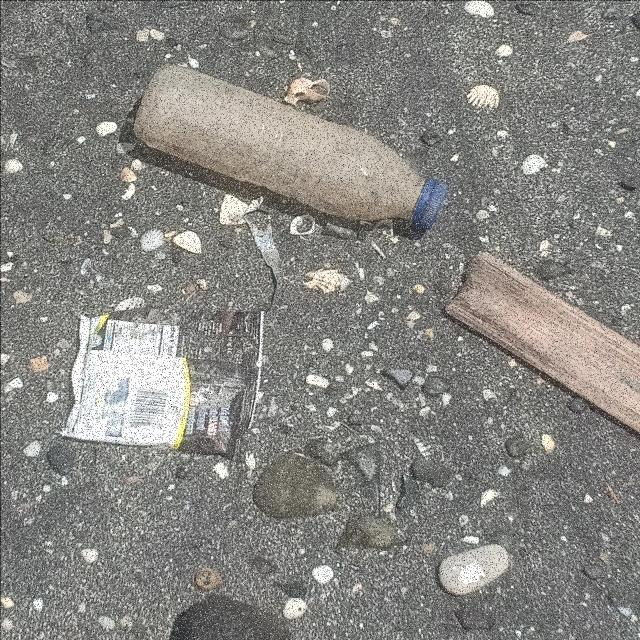plastic_waste: (133, 64, 449, 230), (66, 311, 270, 461)
